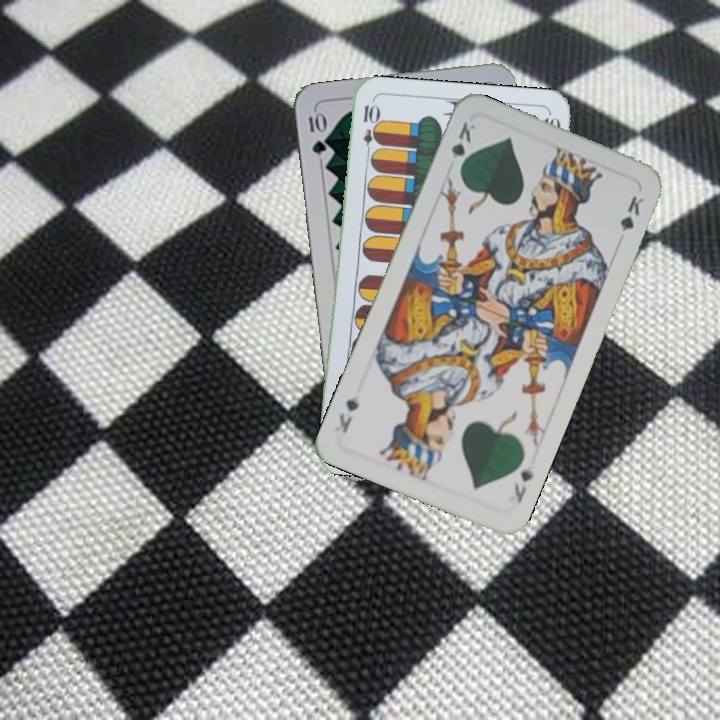E10: (359, 100, 378, 160)
G10: (304, 108, 329, 157)
GK: (447, 117, 478, 175), (509, 465, 536, 506)
